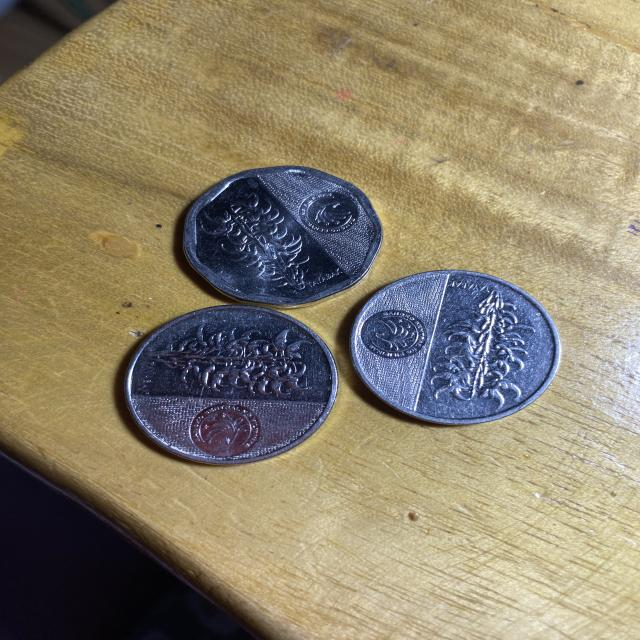5_New_Back: (432, 285, 540, 412), (160, 324, 307, 395), (211, 198, 314, 292)
